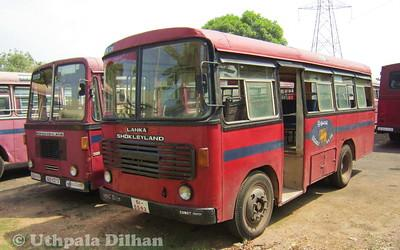bus: (104, 24, 375, 243), (24, 56, 104, 194)
